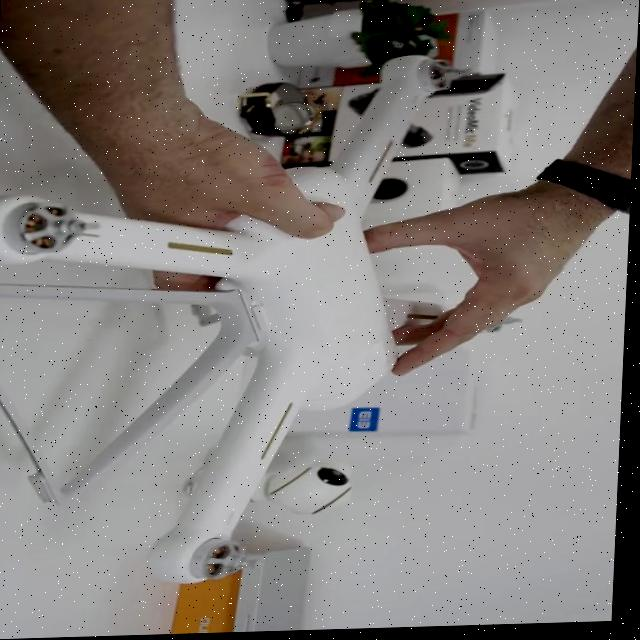drone: (0, 46, 554, 599)
